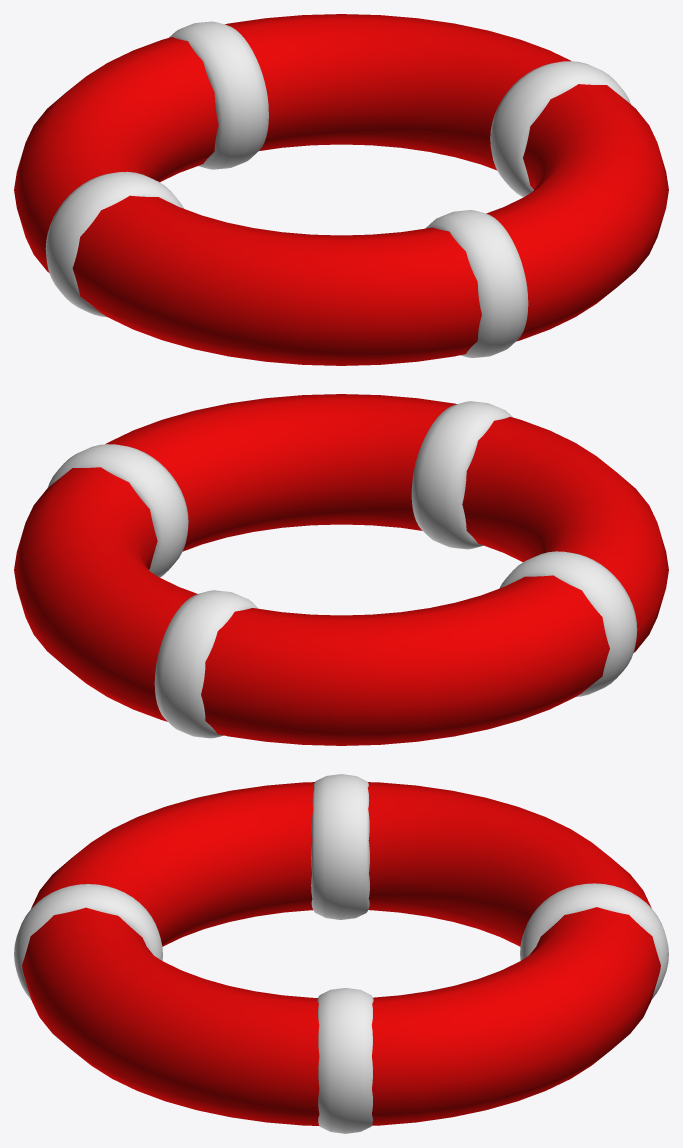
Rendered from lifebelt.glb.
3 views of the same model, one above another, from view 1: azimuth 30°, elevation 25°; view 2: azimuth 150°, elevation 25°; view 3: azimuth 270°, elevation 25° (orthographic).
Visible parts, largest first — view 1: Torus, Torus.001; view 2: Torus, Torus.001; view 3: Torus, Torus.001.
Part boxes in pixels (x1,y1,x2,y2): Torus: [14, 14, 668, 365]; Torus.001: [45, 21, 630, 357]; Torus: [14, 394, 668, 745]; Torus.001: [47, 401, 637, 738]; Torus: [22, 782, 660, 1125]; Torus.001: [14, 774, 668, 1133].
Bounding box in the file's own units: 255 × 56.67 × 255.
